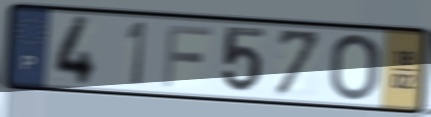1: (124, 20, 149, 89)
4: (52, 13, 99, 88)
5: (221, 24, 270, 96)
7: (275, 26, 325, 100)
F: (160, 22, 215, 90)
O: (327, 32, 383, 103)
